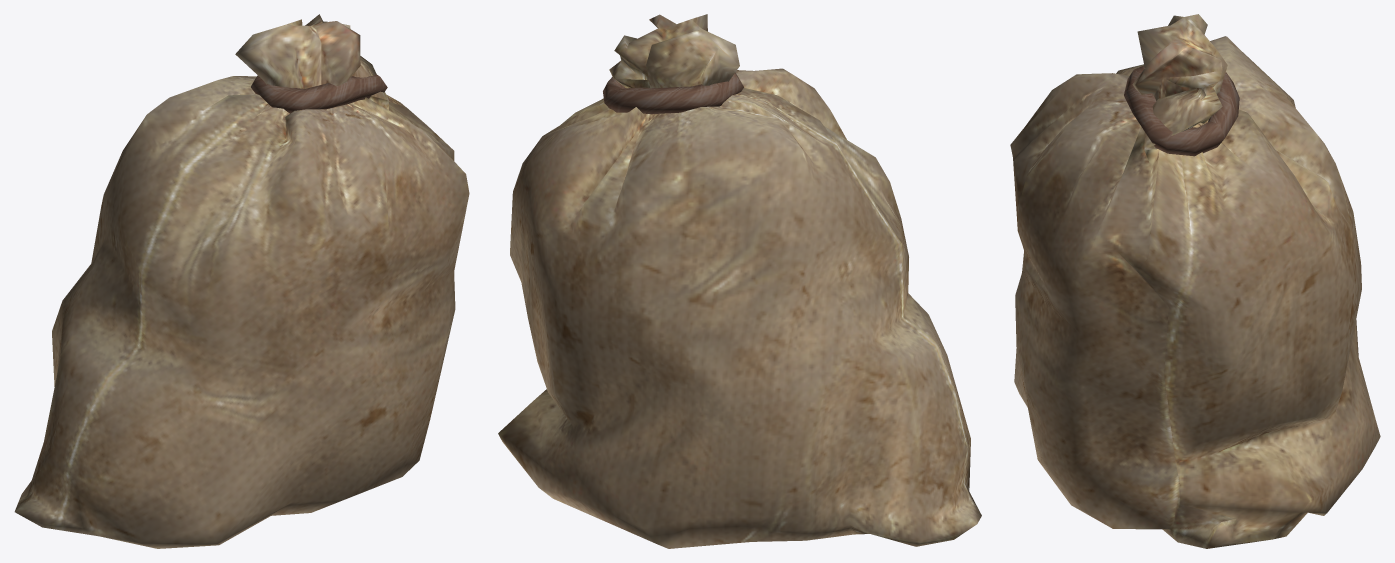
Rendered from SM_Fabric_Sack3.FBX.
3 renders of one model, left to right at view 1: azimuth 30°, elevation 25°; view 2: azimuth 150°, elevation 25°; view 3: azimuth 270°, elevation 25°, orthographic. The views are drawn at different scales.
Visible parts, largest first — view 1: FabricSack3; view 2: FabricSack3; view 3: FabricSack3.
Boxes of the visible parts, <box> form: FabricSack3: <box>14,14,469,548</box>; FabricSack3: <box>498,14,981,548</box>; FabricSack3: <box>1010,14,1380,548</box>.
Bounding box in the file's own units: 67.13 × 64.71 × 46.8.
1 material, 1 textured.
